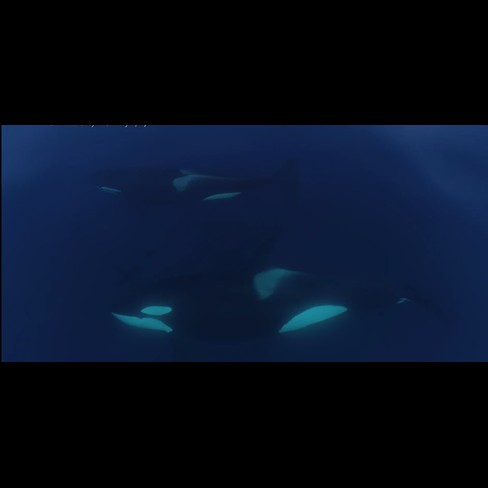orca: (92, 241, 436, 360), (74, 153, 310, 230)
